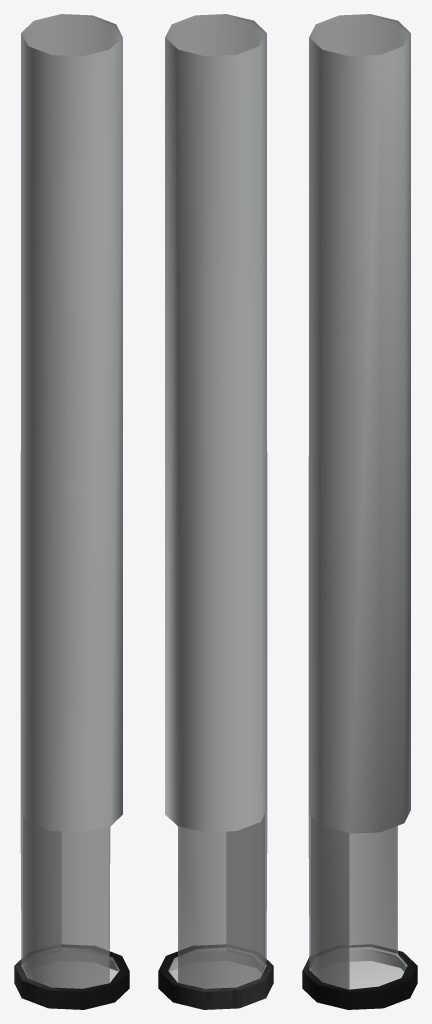
Rendered from VaccumInterior.FBX.
The picture shows the model from 3 angles, left to right: view 1: azimuth 30°, elevation 25°; view 2: azimuth 150°, elevation 25°; view 3: azimuth 330°, elevation 25°; orthographic projection.
Parts seen in each view (by area): view 1: VaccumInt; view 2: VaccumInt; view 3: VaccumInt.
Boxes of the visible parts, x1,y1,x2,y2 form: VaccumInt: (14,14,129,1009); VaccumInt: (158,14,273,1009); VaccumInt: (302,14,417,1009).
Size of the model in its own units: 16.52 by 150 by 15.71.
